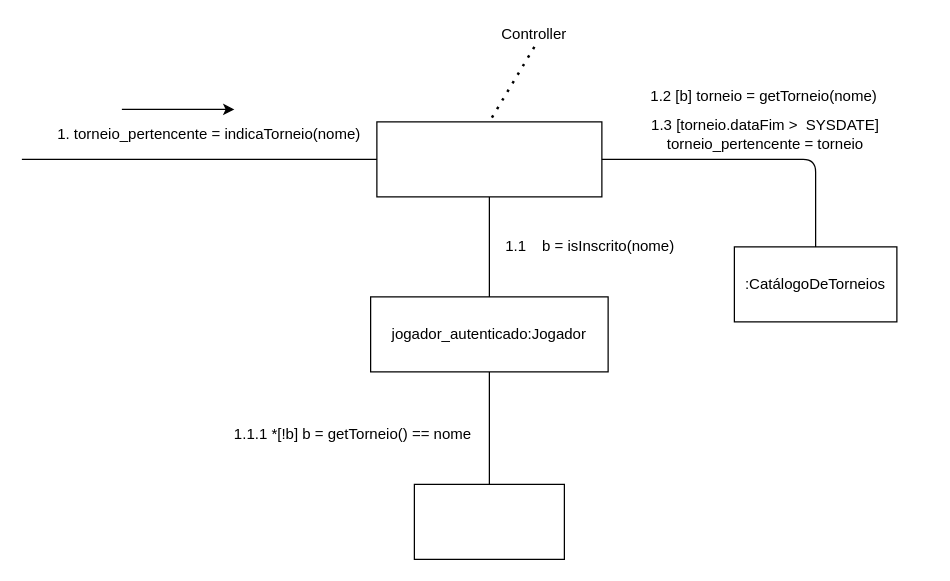
Some shapes in this 950 by 581 pixel diagram are drawn without their labels. Here are the shapes that lost their labels. From the top down, the box of each, then its label:
(376, 121, 602, 197): h:DesafiarParaPartidaHandler
(413, 483, 564, 559): i[i]:Inscrição
